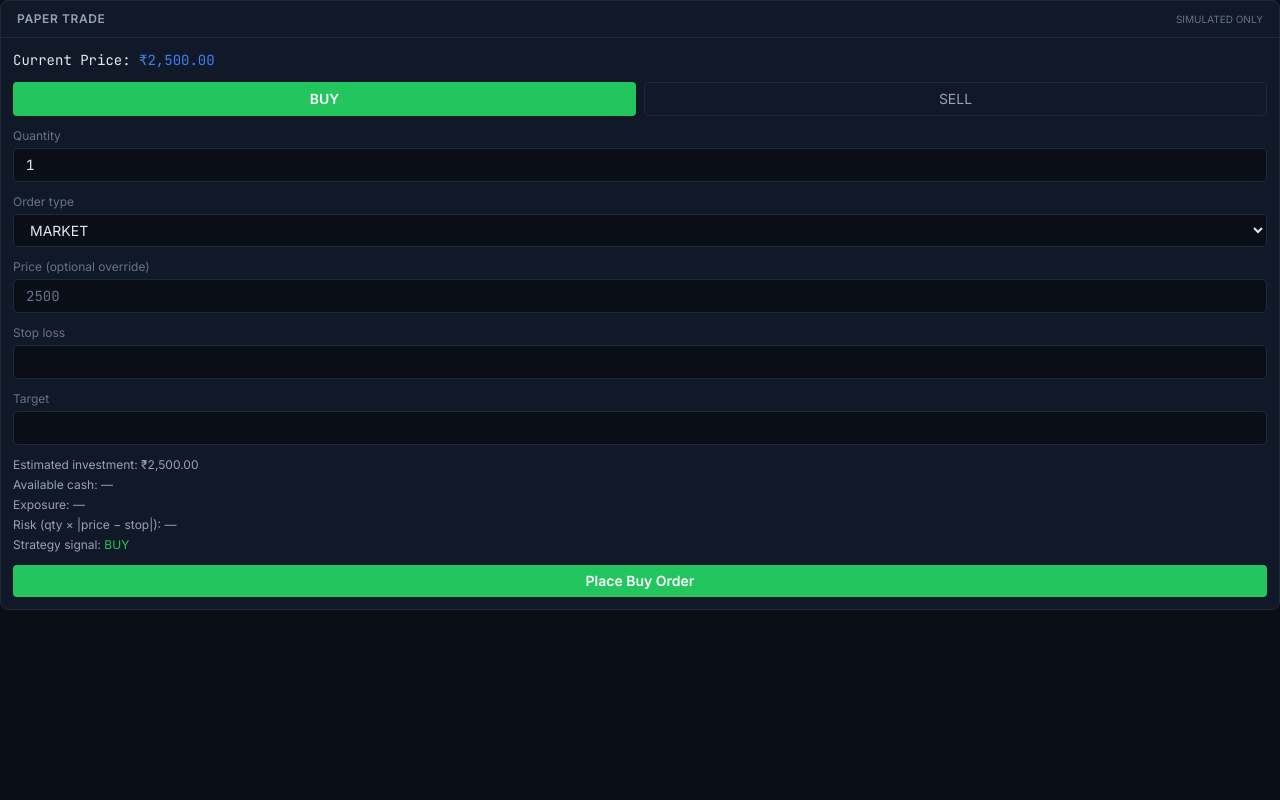
Test case: TradePanel › shows rejection reason from the paper broker
Type "2600" into the number field labelled "Stop loss" at (640, 362), box [13,345,1267,379]
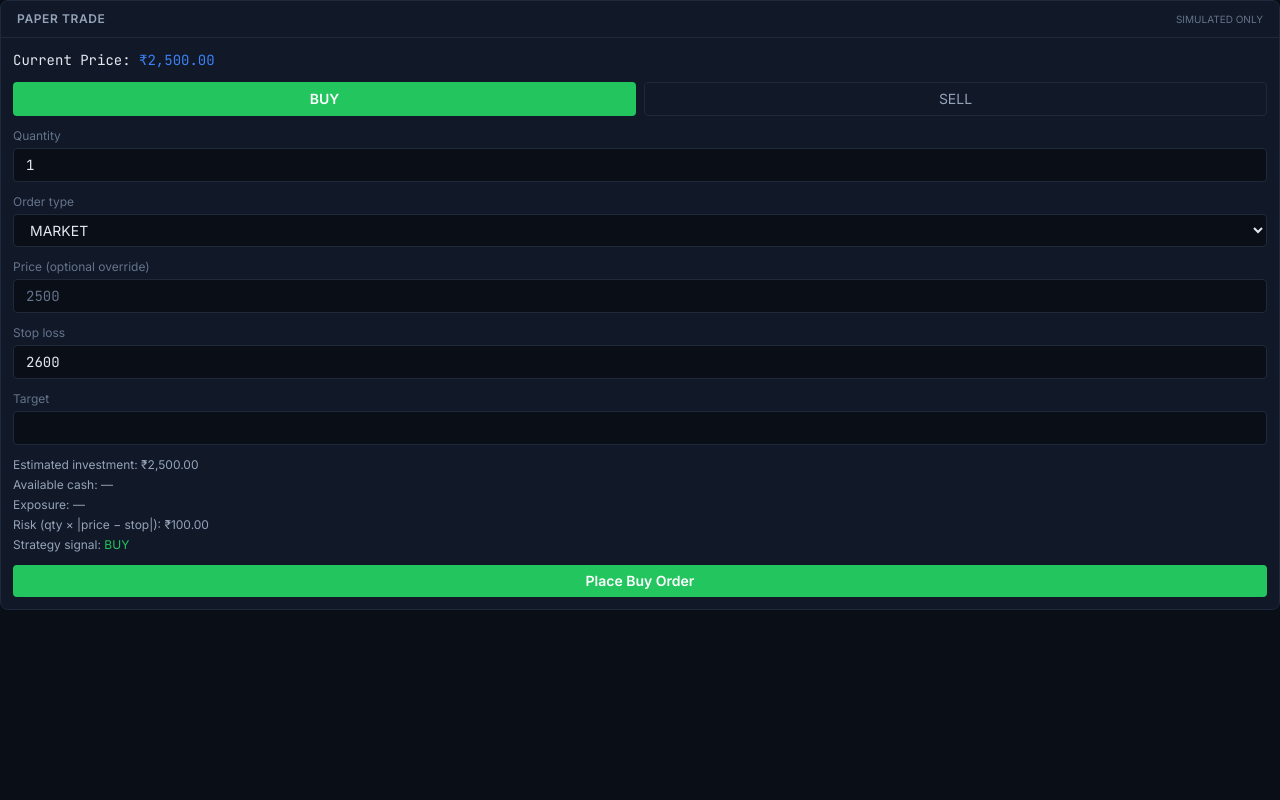
Click the button "Place Buy Order" at (640, 581), box [13,565,1267,597]
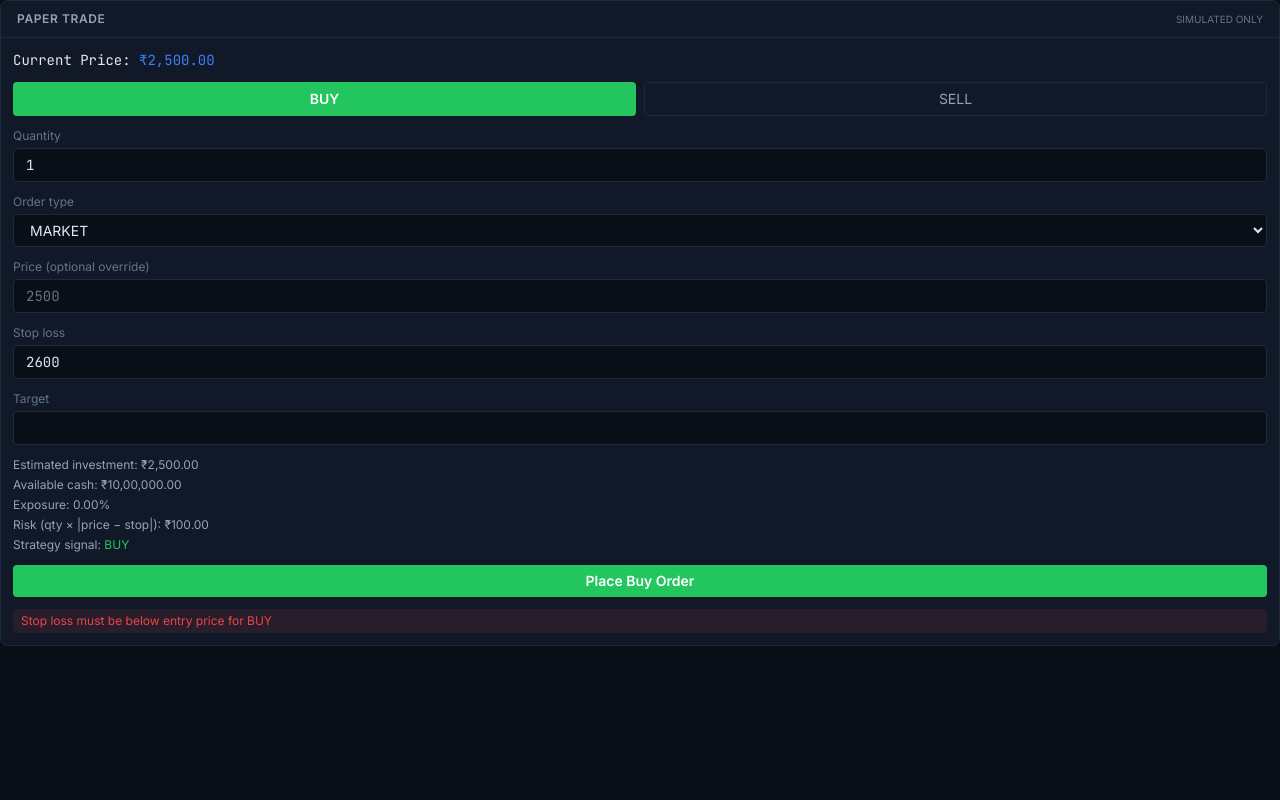
Now the text "Stop loss must be below entry price for BUY" is shown, box [13,609,1267,633]
